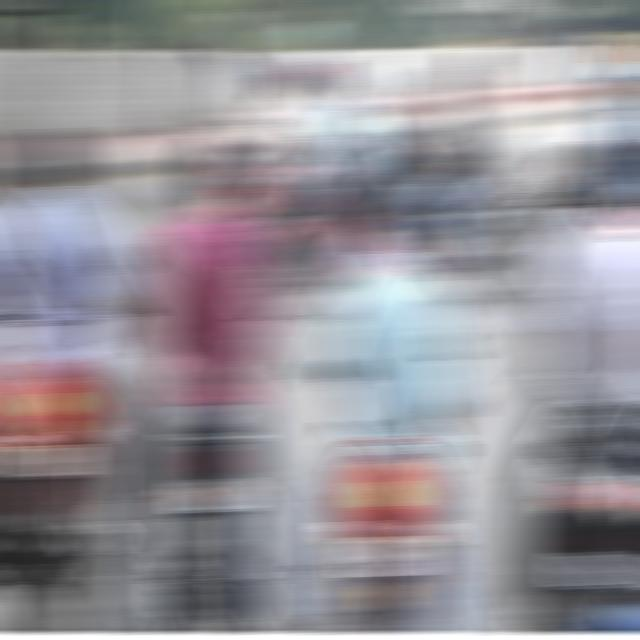With Helmet: (387, 54, 439, 104)
Without Helmet: (517, 119, 583, 204), (18, 107, 83, 189)
